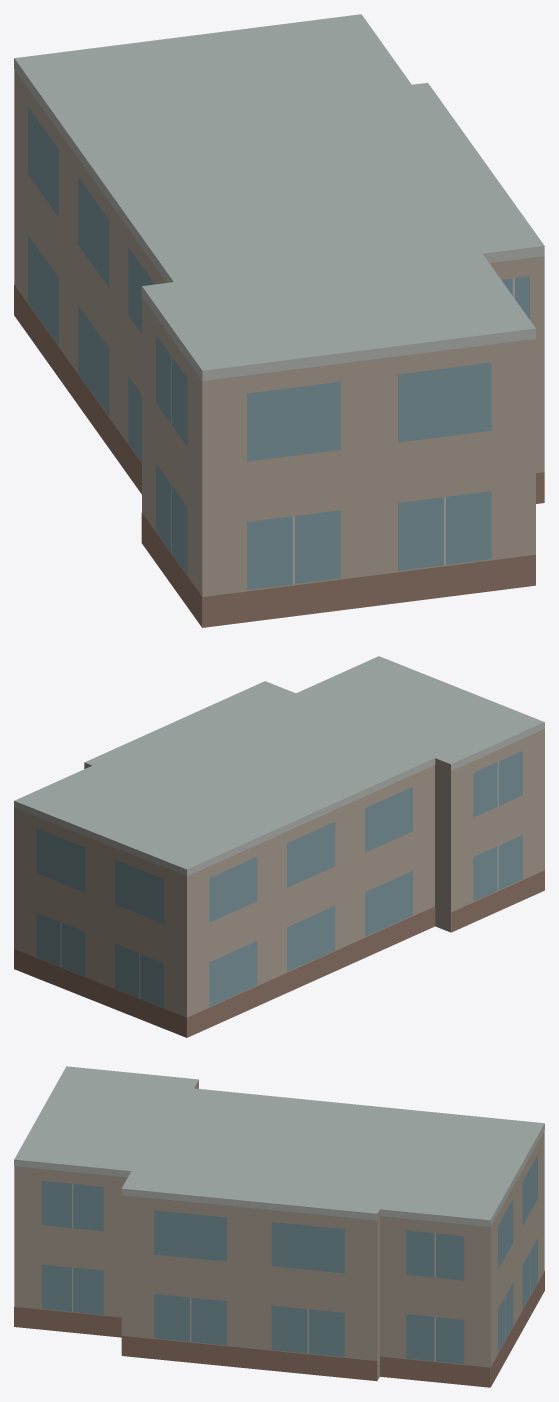
Rendered from survey-upis-32836767.glb.
The picture shows the model from 3 angles, top to bottom: view 1: azimuth 30°, elevation 25°; view 2: azimuth 150°, elevation 25°; view 3: azimuth 270°, elevation 25°; orthographic projection. The views are drawn at different scales.
Visible parts, largest first — view 1: survey-upis-32836767.tmp; view 2: survey-upis-32836767.tmp; view 3: survey-upis-32836767.tmp.
Boxes of the visible parts, left/top/right/bottom form: survey-upis-32836767.tmp: left=14, top=14, right=544, bottom=627; survey-upis-32836767.tmp: left=14, top=656, right=544, bottom=1037; survey-upis-32836767.tmp: left=14, top=1066, right=544, bottom=1387.
Size of the model in its own units: 12.05 by 6.1 by 17.54.
